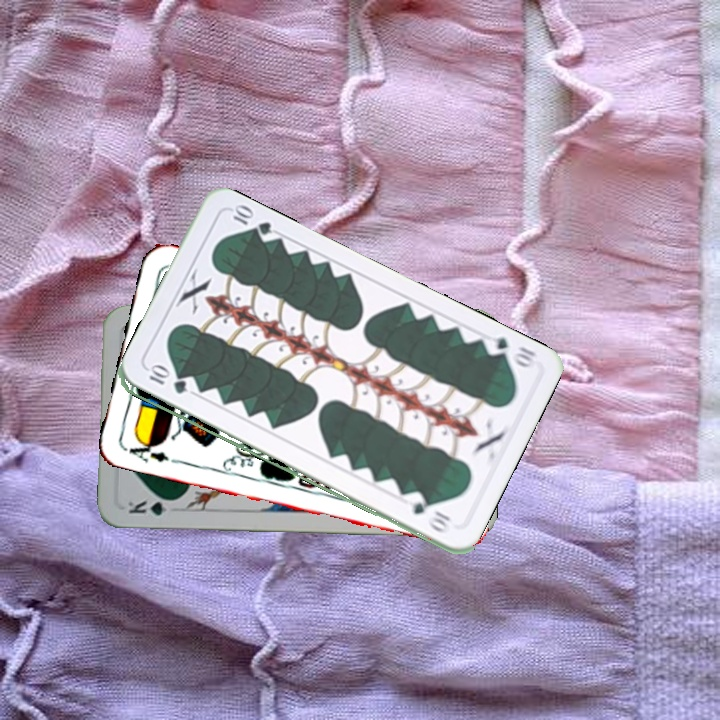EA: (121, 435, 172, 465)
G10: (480, 332, 539, 371), (145, 365, 190, 397)
GK: (124, 496, 181, 519)
